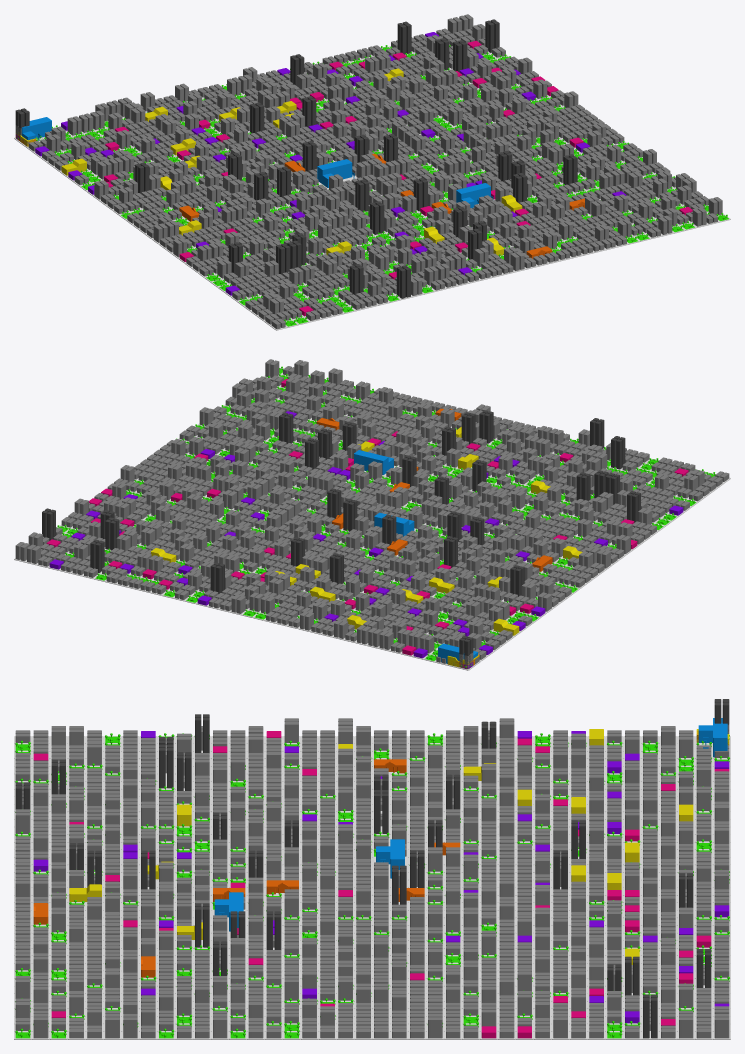
3 views of the same model, one above another, from view 1: azimuth 30°, elevation 25°; view 2: azimuth 150°, elevation 25°; view 3: azimuth 270°, elevation 25° (orthographic). The views are drawn at different scales.
Parts seen in each view (by area): view 1: School_2x3 (×3); view 2: School_2x3; view 3: Work_1x1 (×14), School_2x3 (×3).
Boxes of the visible parts, x1=… form: School_2x3 (×3): x1=14, y1=117, x2=493, y2=208; School_2x3: x1=354, y1=450, x2=395, y2=476; Work_1x1 (×14): x1=139, y1=714, x2=712, y2=1039; School_2x3 (×3): x1=211, y1=718, x2=730, y2=932.
Size of the model in its own units: 40 by 2.37 by 40.
